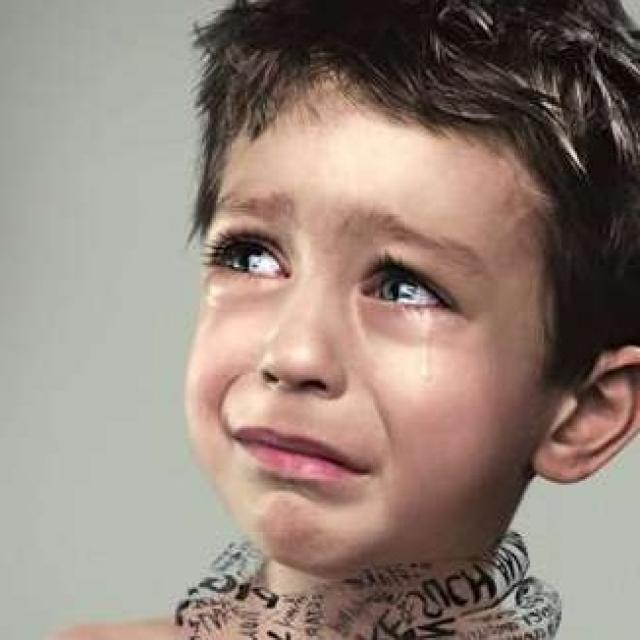Depress: (180, 69, 550, 574)
